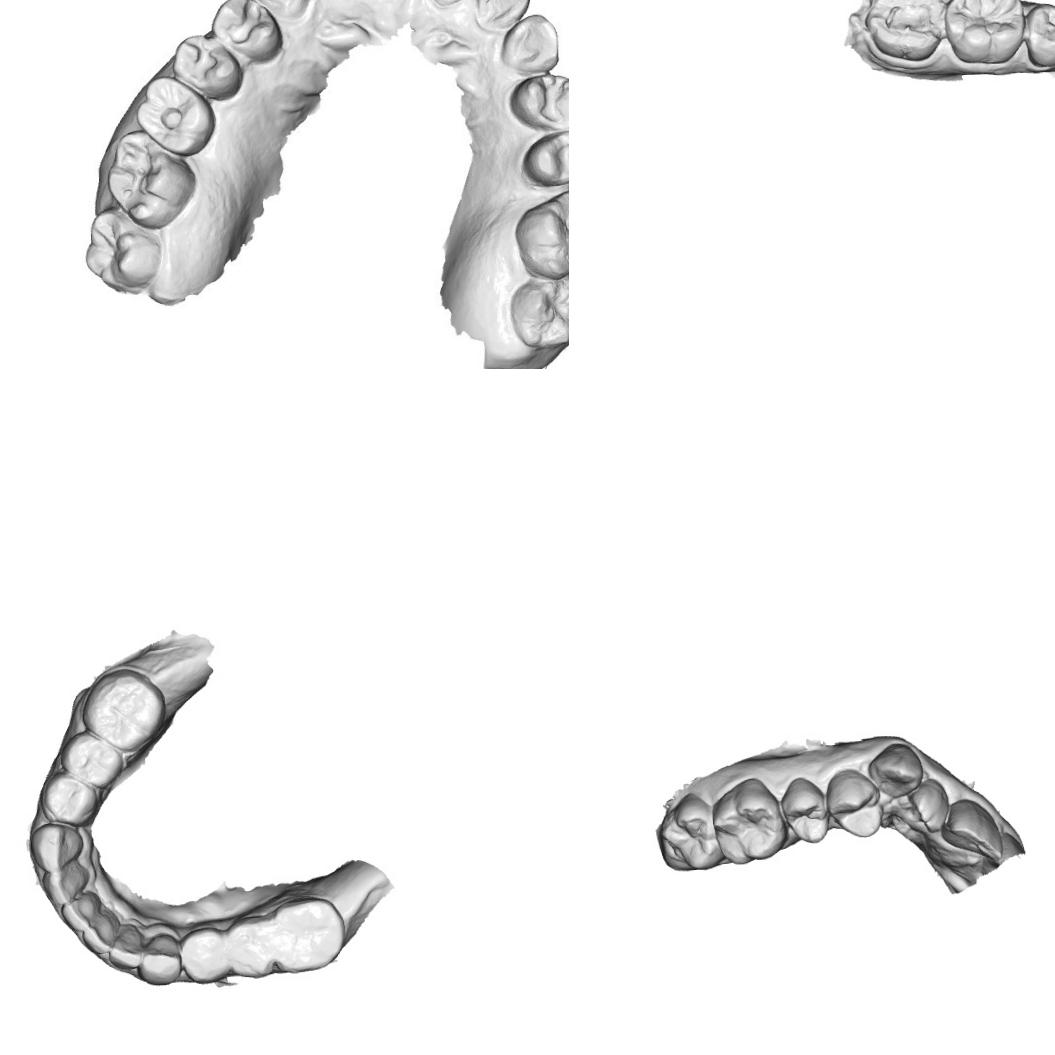canine: (496, 12, 561, 76), (27, 820, 86, 873), (871, 742, 926, 792), (136, 931, 182, 988), (247, 0, 311, 23)
incisor: (945, 797, 997, 865), (41, 863, 91, 907), (59, 890, 104, 934), (912, 782, 950, 834), (81, 907, 121, 956), (106, 922, 144, 970), (471, 0, 530, 30)
molar: (102, 130, 195, 232), (78, 666, 168, 756), (82, 204, 167, 292), (135, 74, 218, 160), (712, 776, 782, 863), (271, 894, 347, 974), (943, 0, 1028, 67), (861, 0, 947, 65), (513, 187, 569, 279), (654, 797, 716, 875), (507, 273, 569, 350)
premolar: (168, 29, 244, 101), (210, 0, 283, 64), (58, 729, 124, 791), (508, 70, 569, 134), (37, 770, 100, 829), (779, 776, 832, 846), (826, 771, 882, 836), (223, 914, 275, 979), (178, 925, 230, 986), (522, 128, 569, 189), (1023, 0, 1055, 69)
